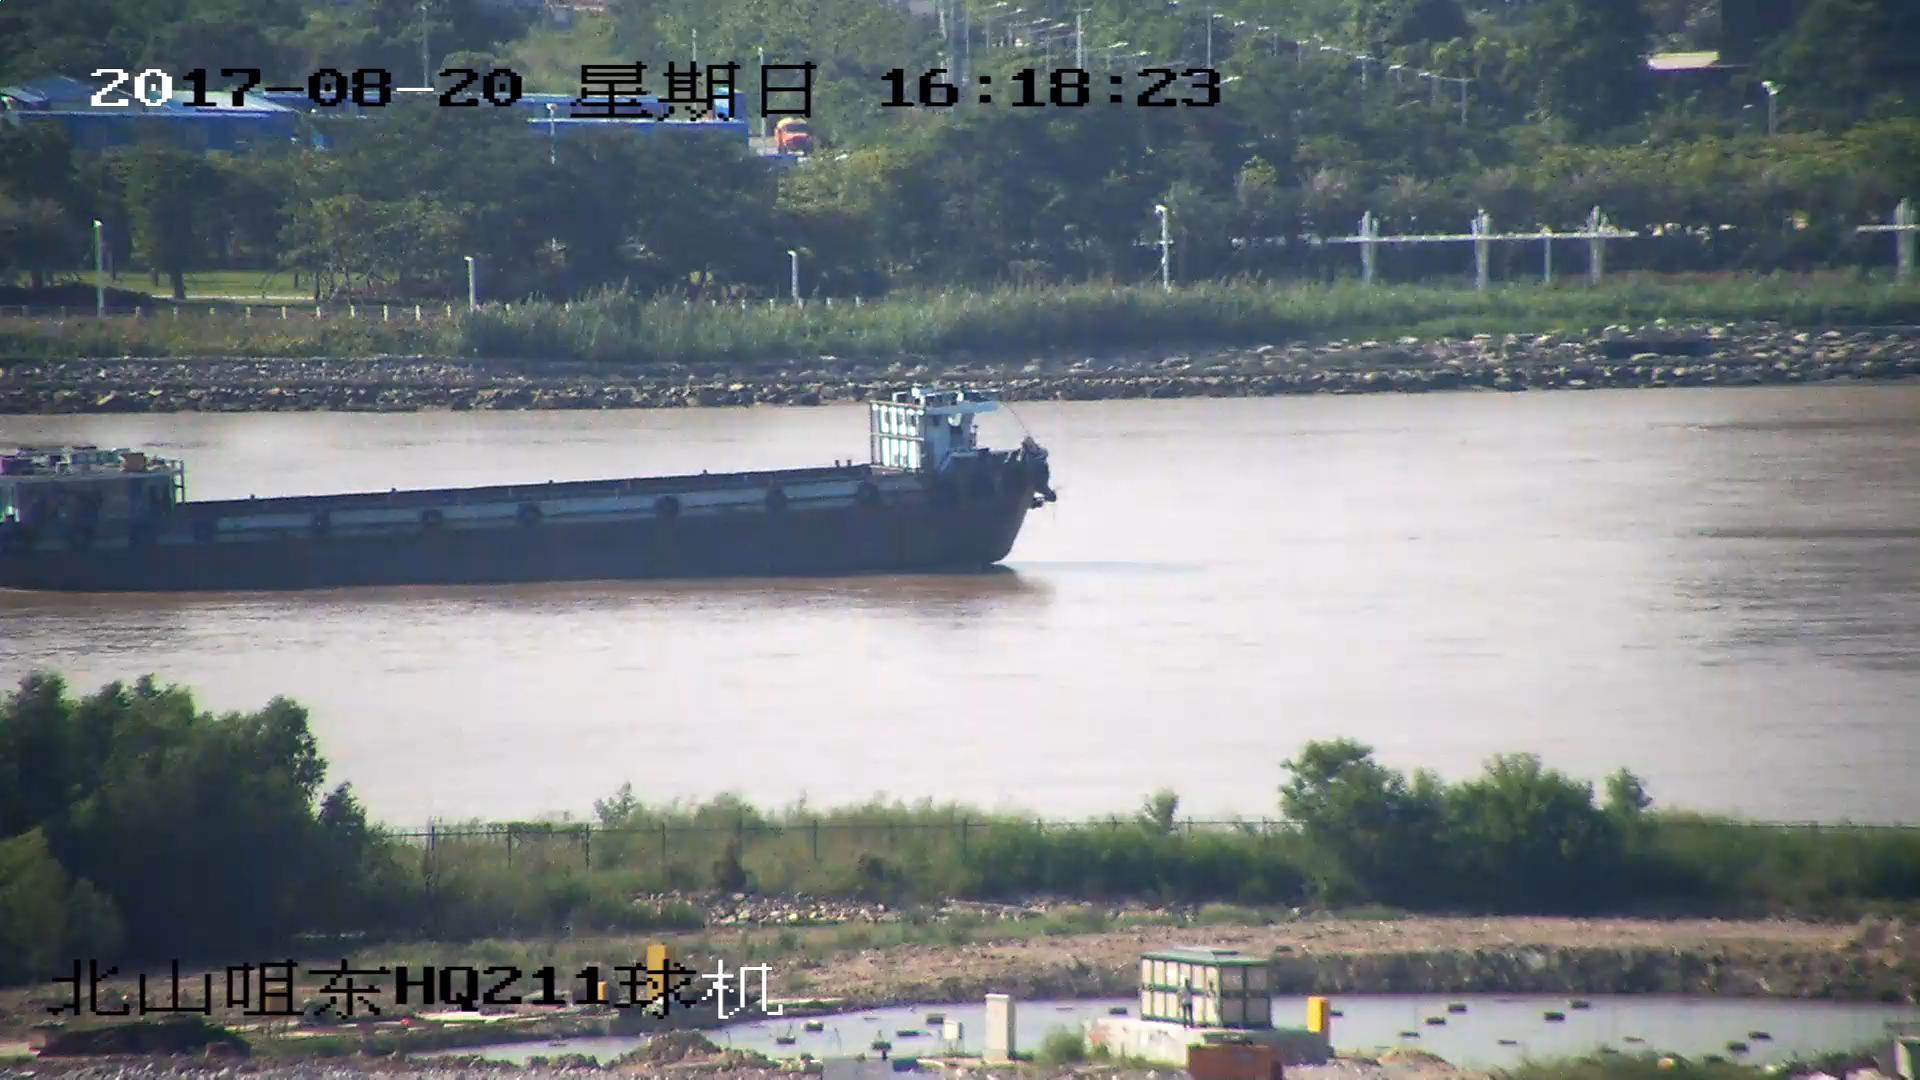Ship: (3, 392, 1058, 579)
